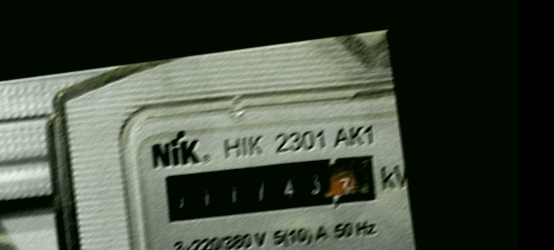0: (170, 180, 188, 209)
1: (197, 177, 214, 207), (225, 174, 241, 204)
3: (306, 167, 323, 196), (336, 173, 353, 196)
4: (280, 172, 297, 198)
7: (252, 174, 269, 200)
screen: (155, 140, 388, 234)
